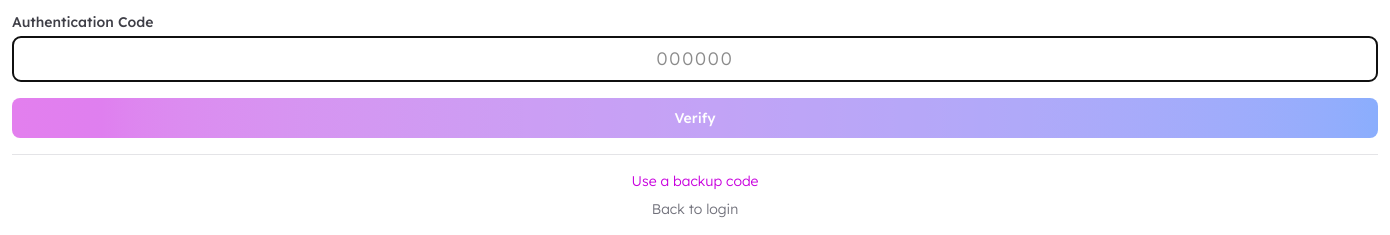
Test: TwoFactorForm › disables submit button when code is incomplete
Expected: the button with test id "totp-submit" is disabled, x1=12 y1=98 x2=1378 y2=138
Type "123" into the field with test id "totp-input" at (695,59), box x1=12 y1=36 x2=1378 y2=82
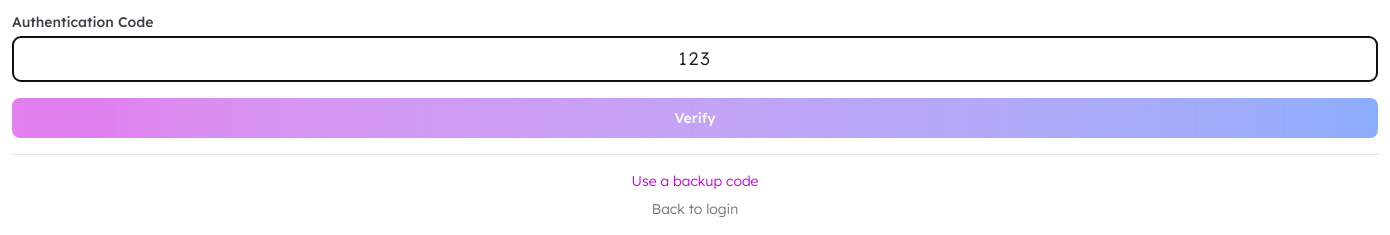
Expected: the button with test id "totp-submit" is disabled, x1=12 y1=98 x2=1378 y2=138
Replace the text in the field with test id "totp-input" with "123456" at (695,59), box x1=12 y1=36 x2=1378 y2=82
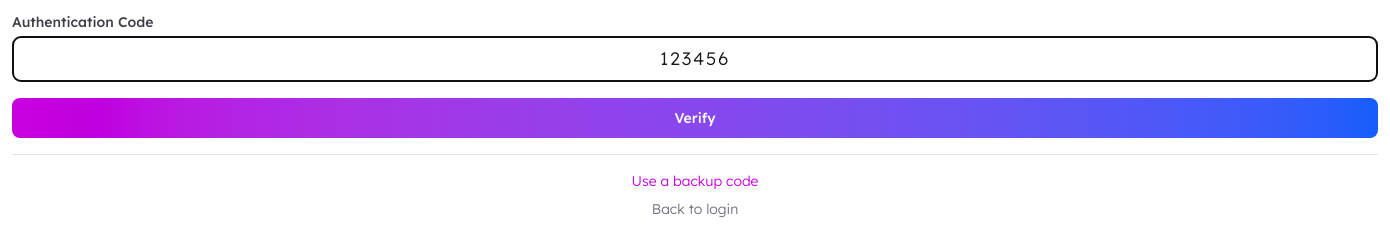
Expected: the button with test id "totp-submit" is enabled, x1=12 y1=98 x2=1378 y2=138
